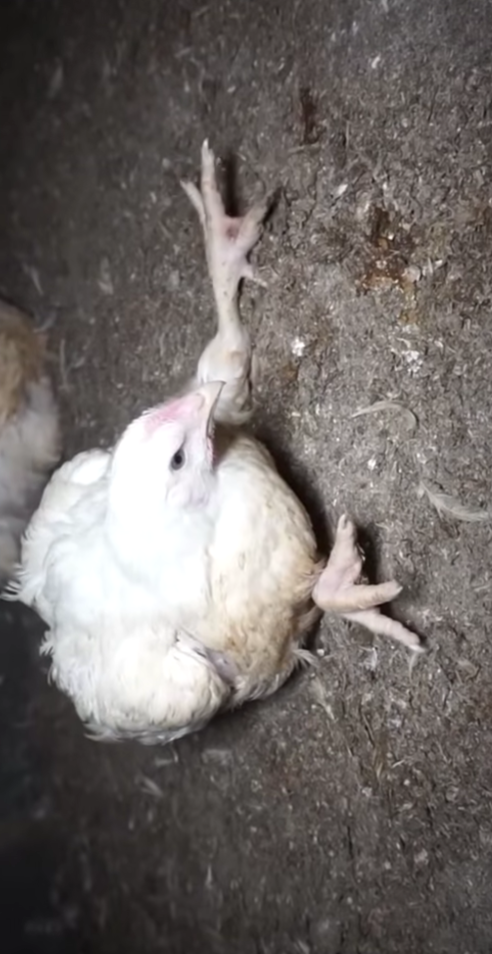Unhealthy: (19, 129, 463, 777)
